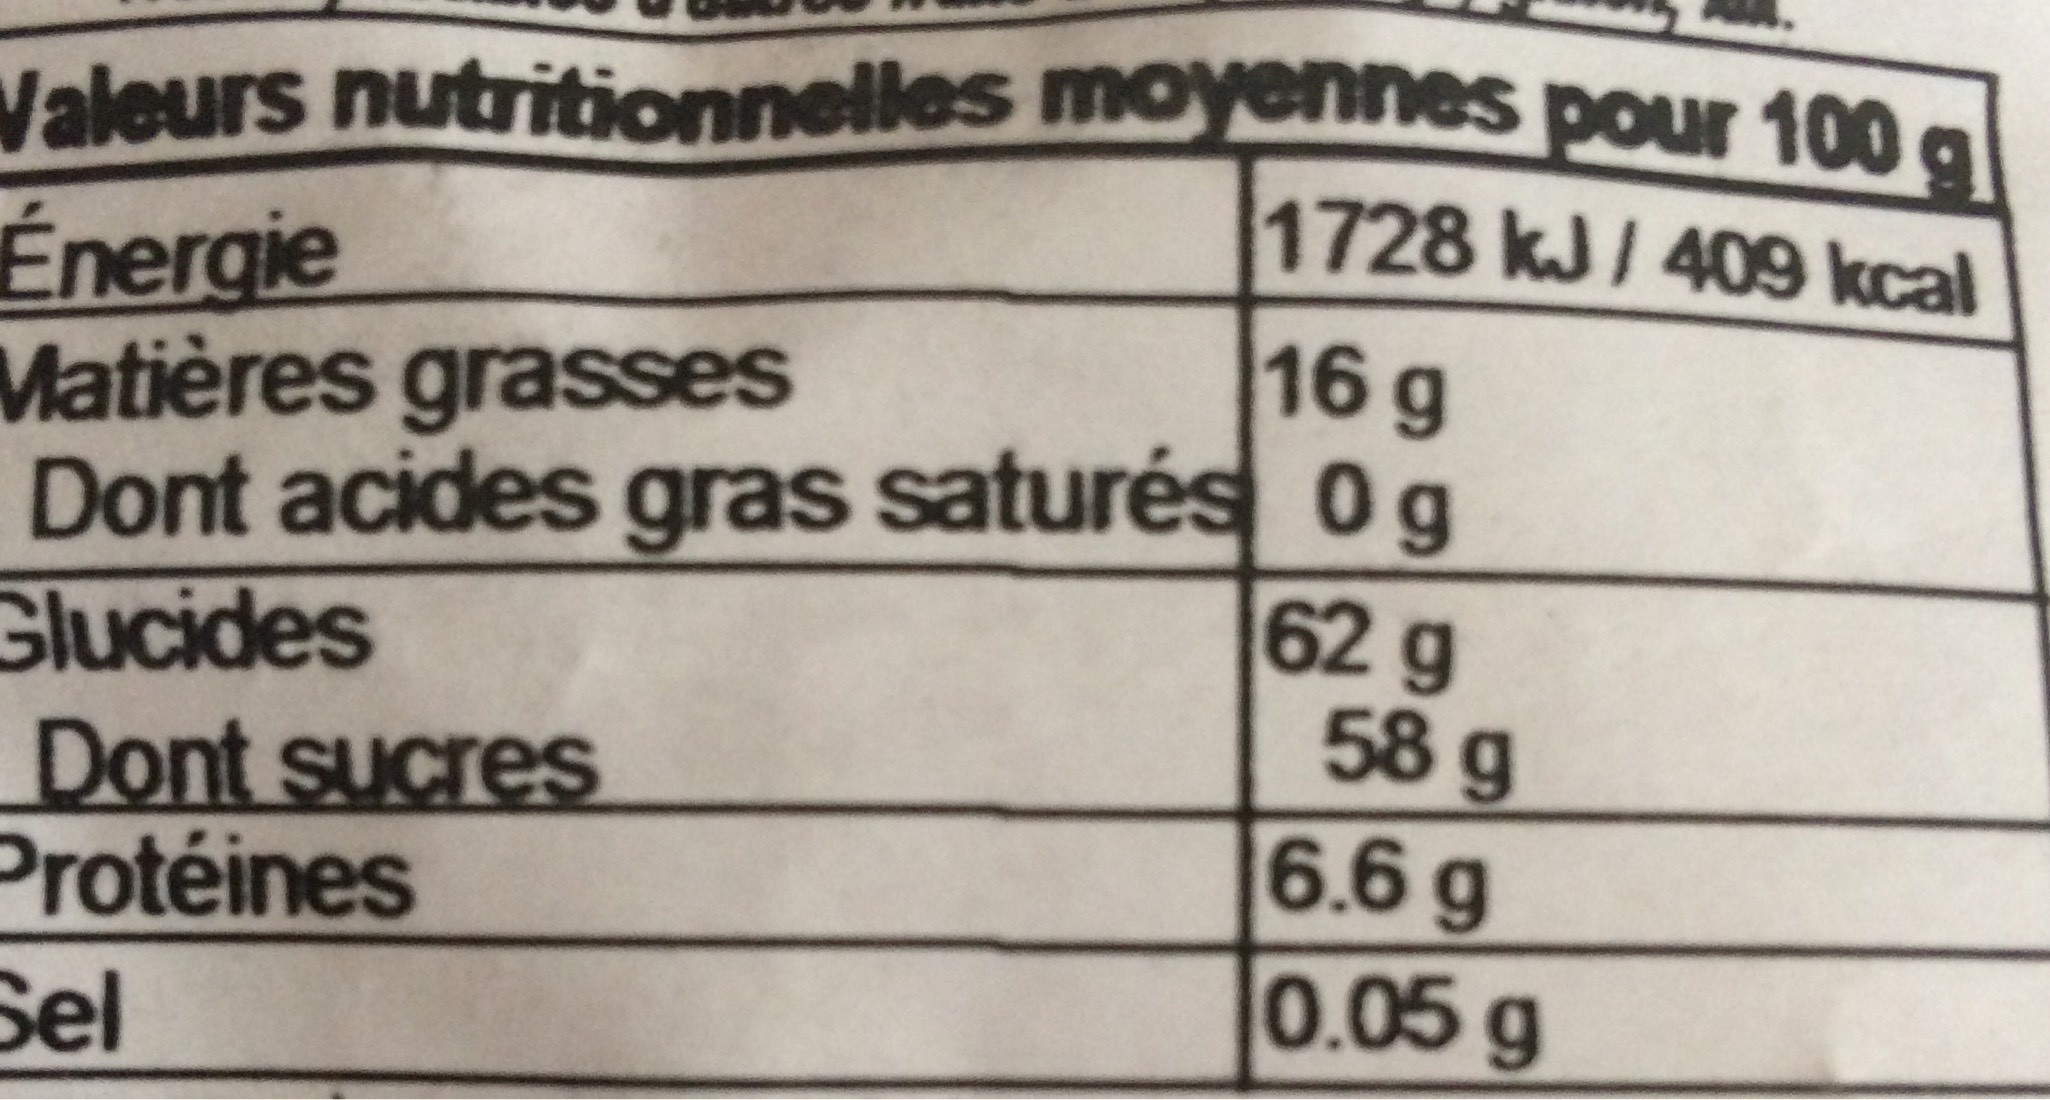column: (1, 198, 1237, 1053), (1272, 203, 1975, 1078)
table: (1, 18, 2050, 1100)
